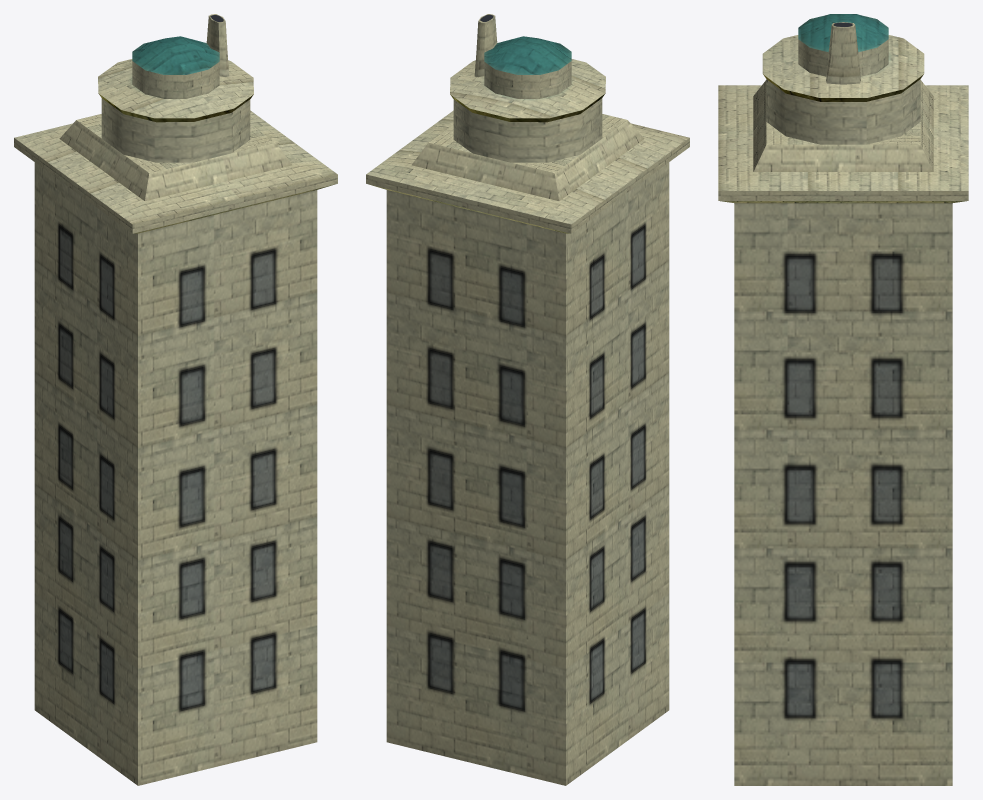
Rendered from tower.fbx.
3 views of the same model, side by side, from view 1: azimuth 30°, elevation 25°; view 2: azimuth 150°, elevation 25°; view 3: azimuth 270°, elevation 25° (orthographic). The views are drawn at different scales.
Visible parts, largest first — view 1: pCube268; view 2: pCube268; view 3: pCube268.
Part boxes in pixels (left/top/right/bottom): pCube268: left=14, top=14, right=337, bottom=785; pCube268: left=366, top=14, right=689, bottom=785; pCube268: left=718, top=14, right=968, bottom=785.
Size of the model in its own units: 58.5 by 190 by 58.5.
1 material, 1 textured.
